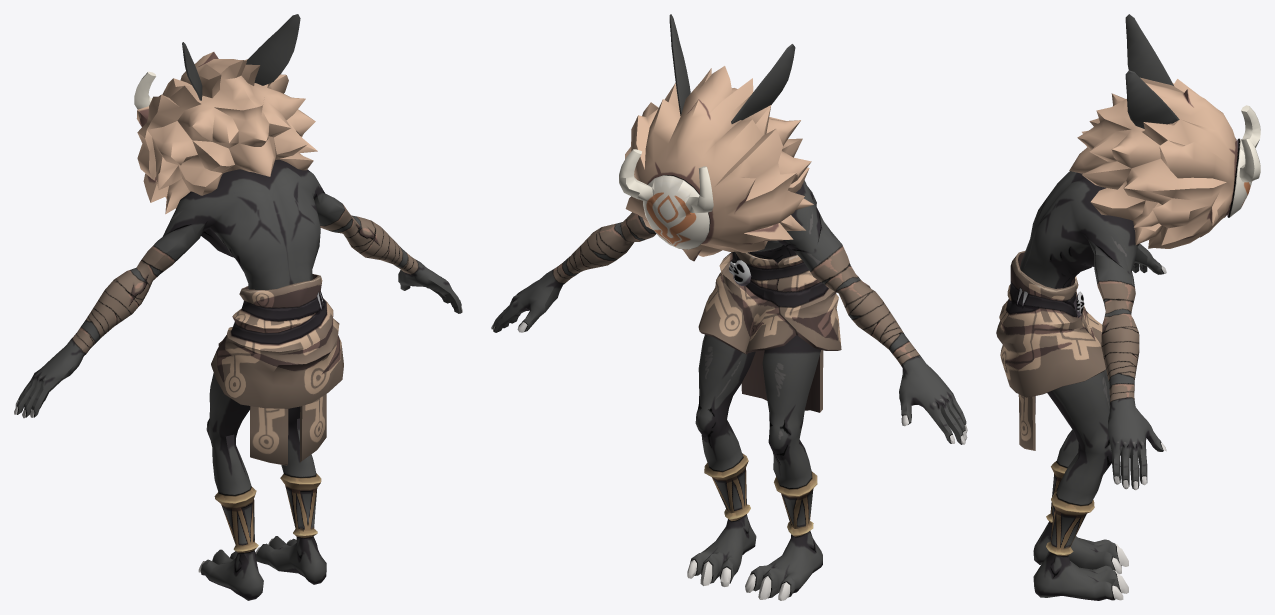
Rendered from qiuqiuren.fbx.
3 renders of one model, left to right at view 1: azimuth 30°, elevation 25°; view 2: azimuth 150°, elevation 25°; view 3: azimuth 270°, elevation 25°, orthographic. The views are drawn at different scales.
Visible parts, largest first — view 1: obj1; view 2: obj1; view 3: obj1.
Boxes of the visible parts, x1,y1,x2,y2 form: obj1: [14, 14, 462, 600]; obj1: [491, 14, 967, 600]; obj1: [996, 14, 1260, 600].
Bounding box in the file's own units: 14.65 × 16.74 × 7.45.
1 material, 1 textured.
